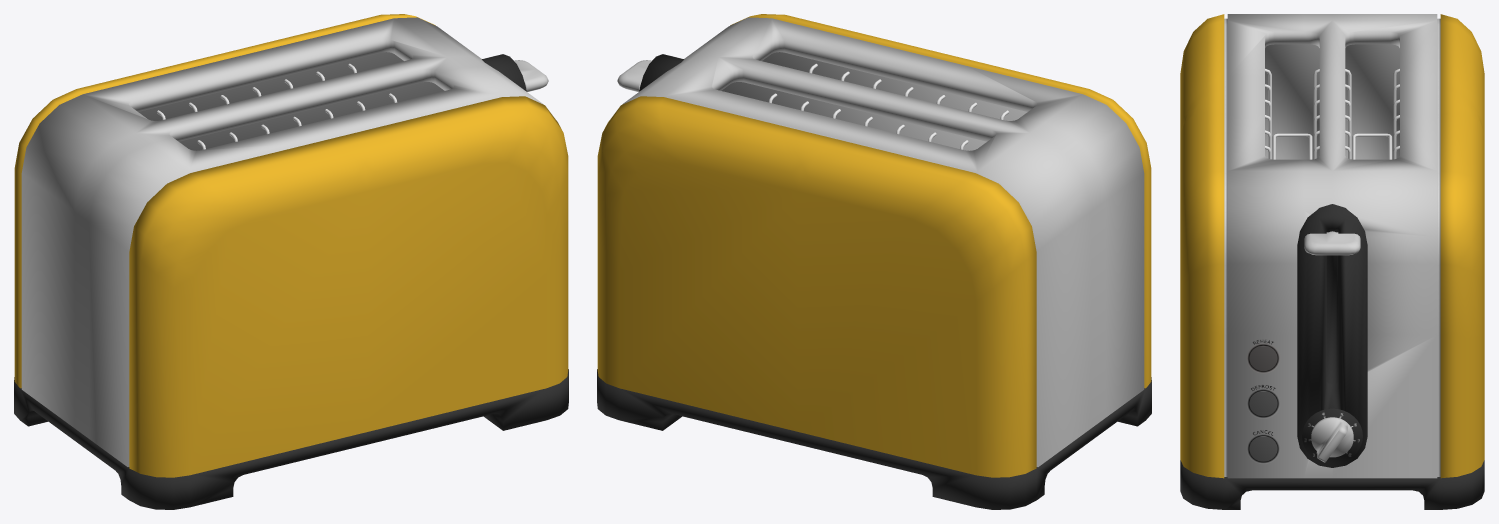
The model's file is scopia-toaster-quality-v2.glb.
3 views of the same model, side by side, from view 1: azimuth 30°, elevation 25°; view 2: azimuth 150°, elevation 25°; view 3: azimuth 270°, elevation 25° (orthographic).
Parts seen in each view (by area): view 1: body_Cube.006, plasticBase_Cube.001, plasticControls_Cylinder; view 2: body_Cube.006, plasticBase_Cube.001, plasticControls_Cylinder; view 3: body_Cube.006, plasticControls_Cylinder, plasticBase_Cube.001, wheelhandle_Cylinder.004, wheel_Cylinder.001, handle_Cube.007, Plane.015_Plane.016.
Boxes of the visible parts, box(x1,y1,x2,y2) form: body_Cube.006: box(14, 14, 568, 477); plasticBase_Cube.001: box(14, 369, 568, 509); plasticControls_Cylinder: box(482, 54, 526, 91); body_Cube.006: box(597, 14, 1151, 477); plasticBase_Cube.001: box(597, 369, 1151, 509); plasticControls_Cylinder: box(639, 54, 683, 91); body_Cube.006: box(1180, 14, 1484, 478); plasticControls_Cylinder: box(1297, 204, 1367, 467); plasticBase_Cube.001: box(1180, 460, 1484, 509); wheelhandle_Cylinder.004: box(1311, 417, 1353, 462); wheel_Cylinder.001: box(1302, 408, 1362, 463); handle_Cube.007: box(1304, 231, 1360, 255); Plane.015_Plane.016: box(1352, 133, 1392, 159).
Bounding box in the file's own units: 0.27 × 0.174 × 0.155.
6 materials, 2 textured.
